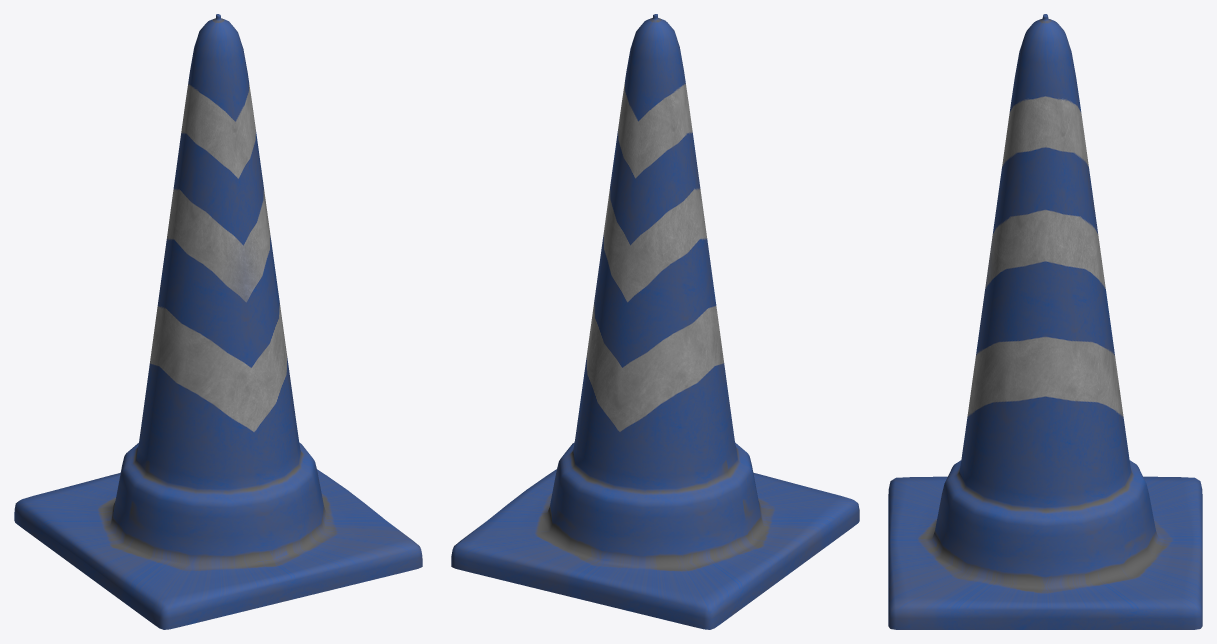
File: ColorCone_Scotch_Dirty_Blue_NoWeight.fbx
3 renders of one model, left to right at view 1: azimuth 30°, elevation 25°; view 2: azimuth 150°, elevation 25°; view 3: azimuth 270°, elevation 25°, orthographic. The views are drawn at different scales.
Parts seen in each view (by area): view 1: ColorCone_Scotch_Dirty_Blue_NoWeight; view 2: ColorCone_Scotch_Dirty_Blue_NoWeight; view 3: ColorCone_Scotch_Dirty_Blue_NoWeight.
Boxes of the visible parts, x1,y1,x2,y2 form: ColorCone_Scotch_Dirty_Blue_NoWeight: [14, 14, 422, 629]; ColorCone_Scotch_Dirty_Blue_NoWeight: [451, 14, 859, 629]; ColorCone_Scotch_Dirty_Blue_NoWeight: [888, 14, 1202, 629].
Bounding box in the file's own units: 38 × 38 × 73.14.
1 material, 1 textured.
